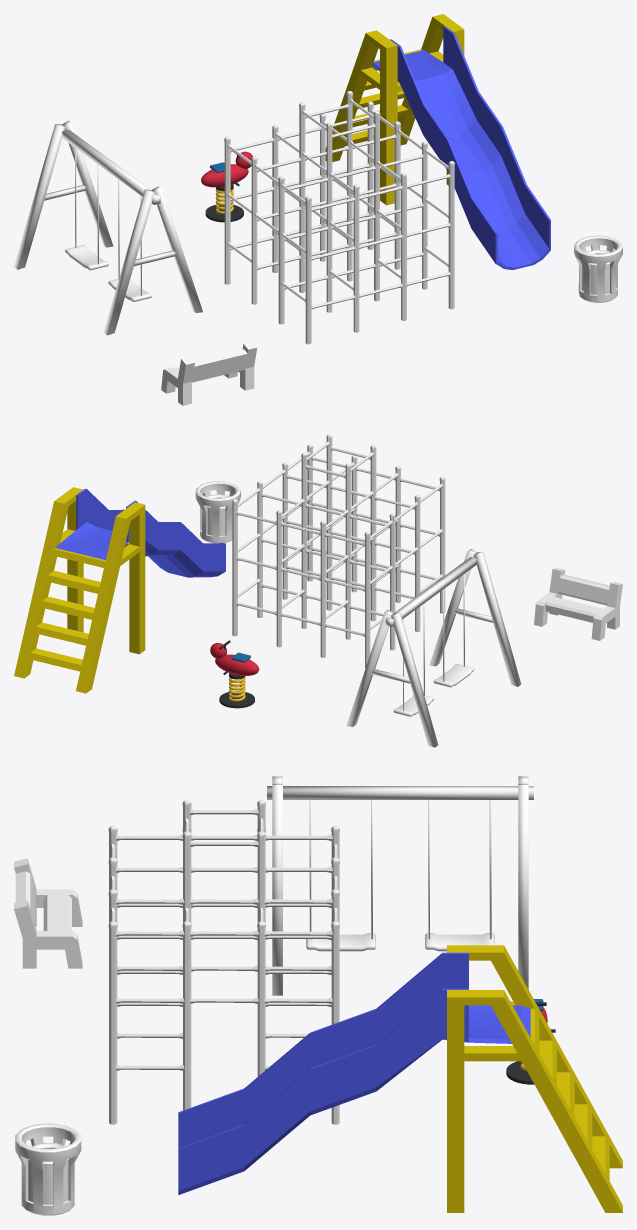
Rendered from combo-playground-expanded.glb.
The picture shows the model from 3 angles, top to bottom: view 1: azimuth 30°, elevation 25°; view 2: azimuth 150°, elevation 25°; view 3: azimuth 270°, elevation 25°; orthographic projection. The views are drawn at different scales.
Parts seen in each view (by area): view 1: 02_asset-023, 00_asset-065, 01_asset-066, 04_asset-007, 05_asset-074, 03_asset-070; view 2: 00_asset-065, 02_asset-023, 01_asset-066, 04_asset-007, 05_asset-074, 03_asset-070; view 3: 02_asset-023, 00_asset-065, 01_asset-066, 05_asset-074, 04_asset-007, 03_asset-070.
Boxes of the visible parts, box(x1,y1,x2,y2) form: 02_asset-023: box(325, 14, 550, 269); 00_asset-065: box(224, 91, 454, 344); 01_asset-066: box(14, 120, 202, 335); 04_asset-007: box(161, 341, 257, 405); 05_asset-074: box(574, 235, 622, 302); 03_asset-070: box(201, 151, 252, 222); 00_asset-065: box(232, 434, 445, 667); 02_asset-023: box(14, 487, 225, 693); 01_asset-066: box(346, 549, 521, 747); 04_asset-007: box(534, 568, 622, 640); 05_asset-074: box(195, 481, 240, 543); 03_asset-070: box(210, 640, 259, 708); 02_asset-023: box(178, 945, 622, 1212); 00_asset-065: box(108, 799, 339, 1124); 01_asset-066: box(267, 776, 533, 995); 05_asset-074: box(15, 1123, 81, 1215); 04_asset-007: box(14, 858, 82, 968); 03_asset-070: box(506, 999, 555, 1084).
Size of the model in its own units: 8.01 by 3.24 by 6.91.
